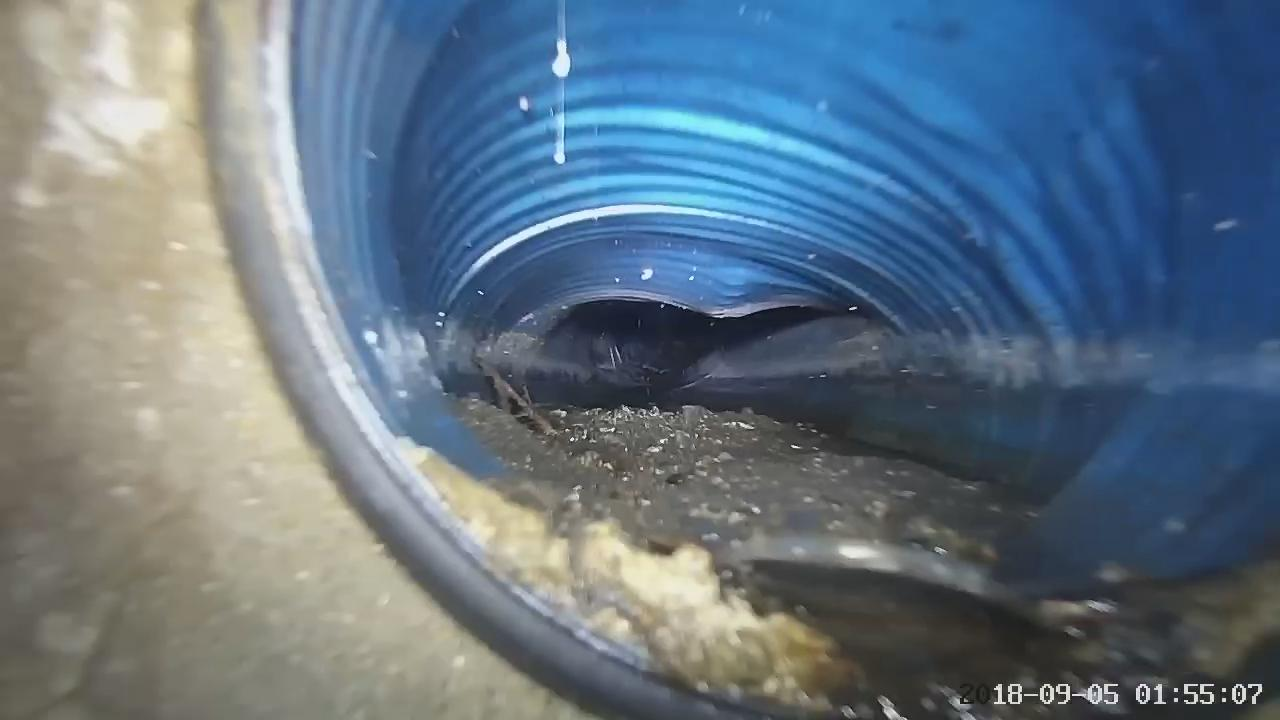BX: (487, 150, 928, 332)
CJ: (407, 399, 1030, 712)
